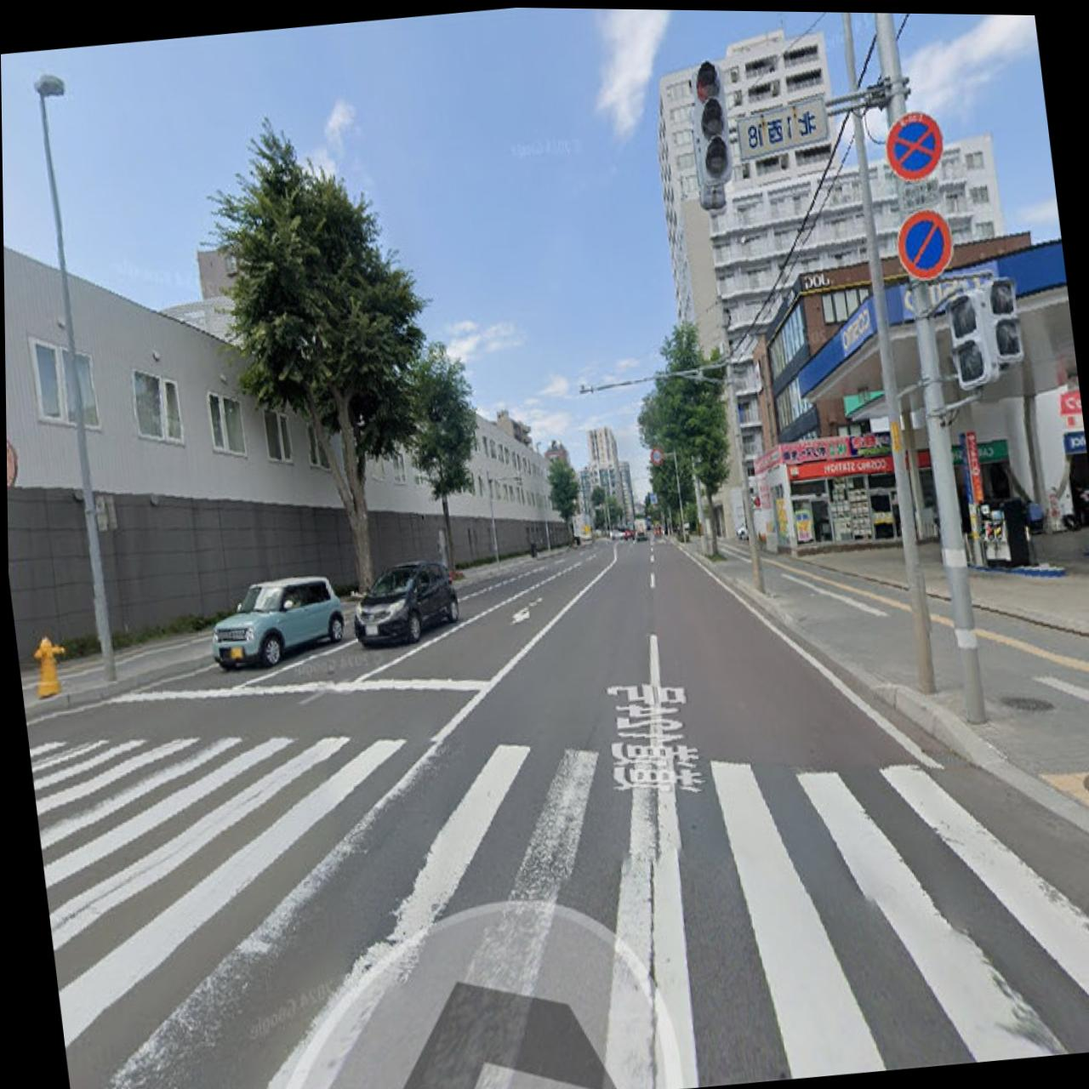stop_sign: (879, 108, 950, 188)
